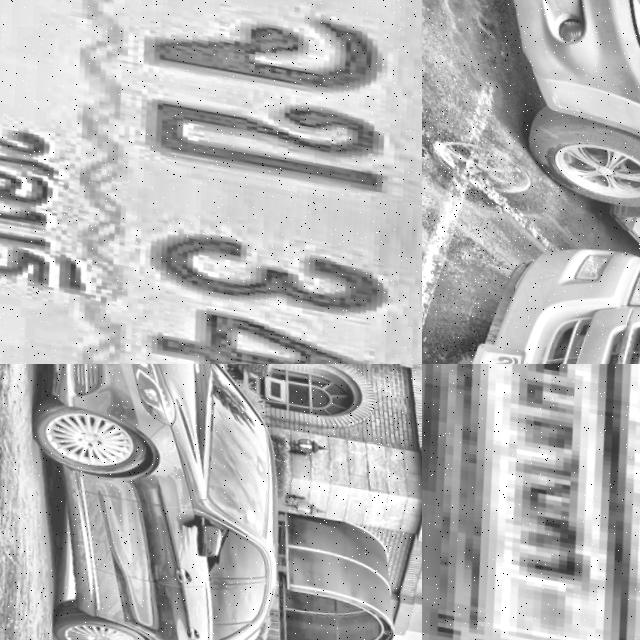license-plate: (0, 0, 422, 364), (422, 364, 640, 640), (428, 333, 532, 364)
